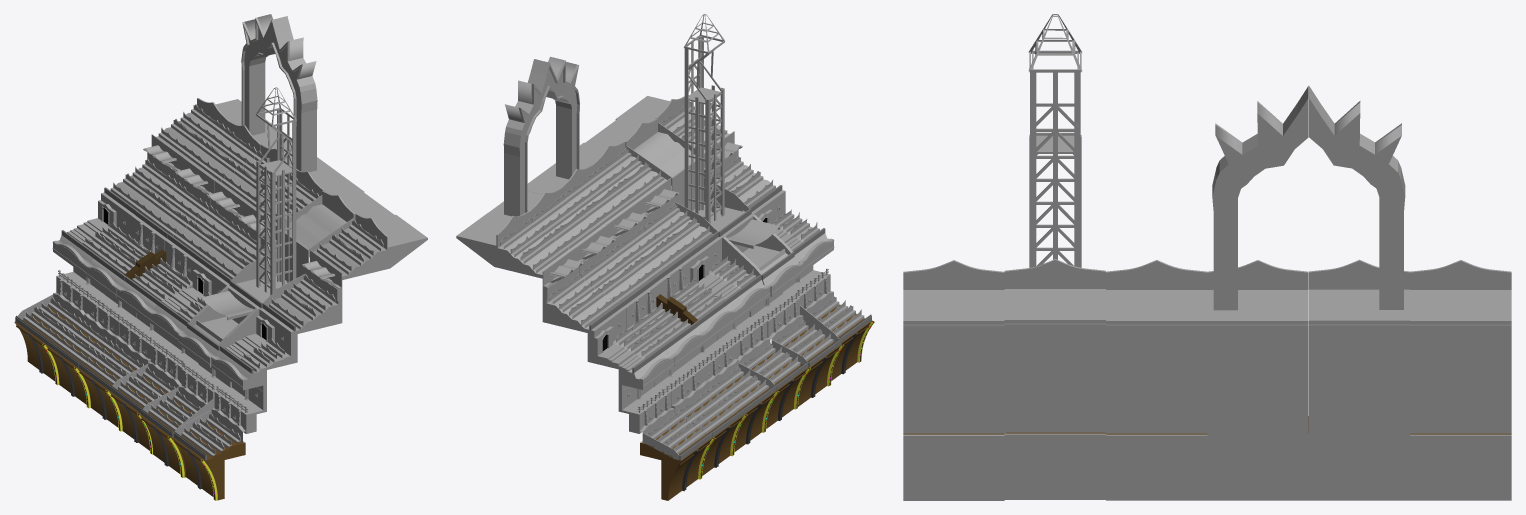
The model's file is ArenaTest6Mid.fbx.
3 views of the same model, side by side, from view 1: azimuth 30°, elevation 25°; view 2: azimuth 150°, elevation 25°; view 3: azimuth 270°, elevation 25° (orthographic). The views are drawn at different scales.
Visible parts, largest first — view 1: CombinedMiddlePiece2; view 2: CombinedMiddlePiece2; view 3: CombinedMiddlePiece2.
Boxes of the visible parts, x1=… form: CombinedMiddlePiece2: x1=14, y1=14, x2=427, y2=500; CombinedMiddlePiece2: x1=456, y1=14, x2=874, y2=500; CombinedMiddlePiece2: x1=903, y1=14, x2=1511, y2=500.
Bounding box in the file's own units: 66.22 × 98.15 × 96.01.
